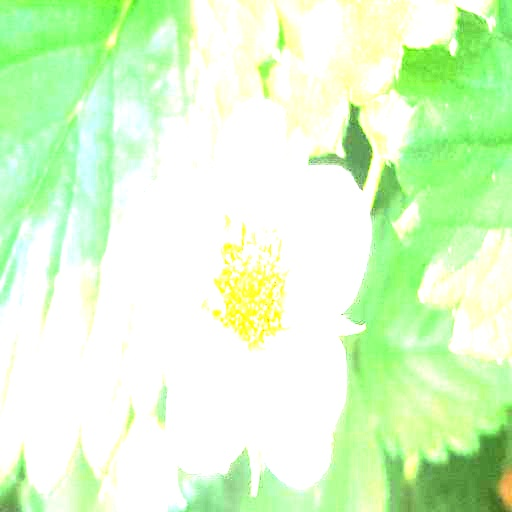Blossom Blight: (205, 211, 295, 350)
